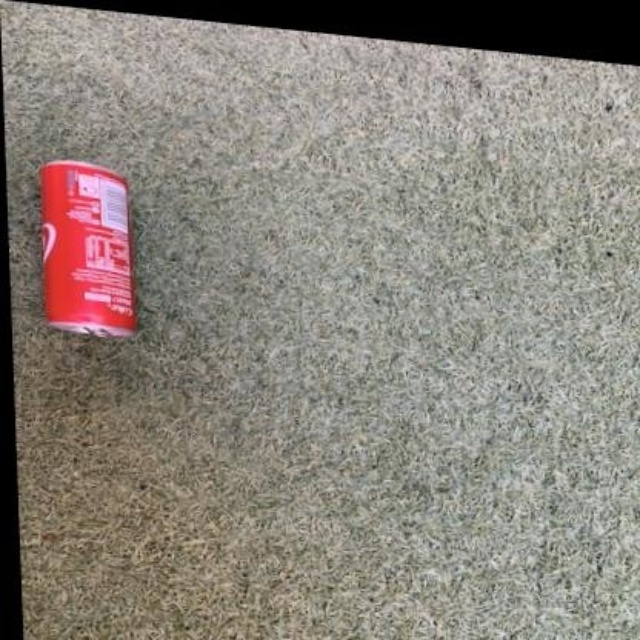trash: (40, 162, 135, 335)
